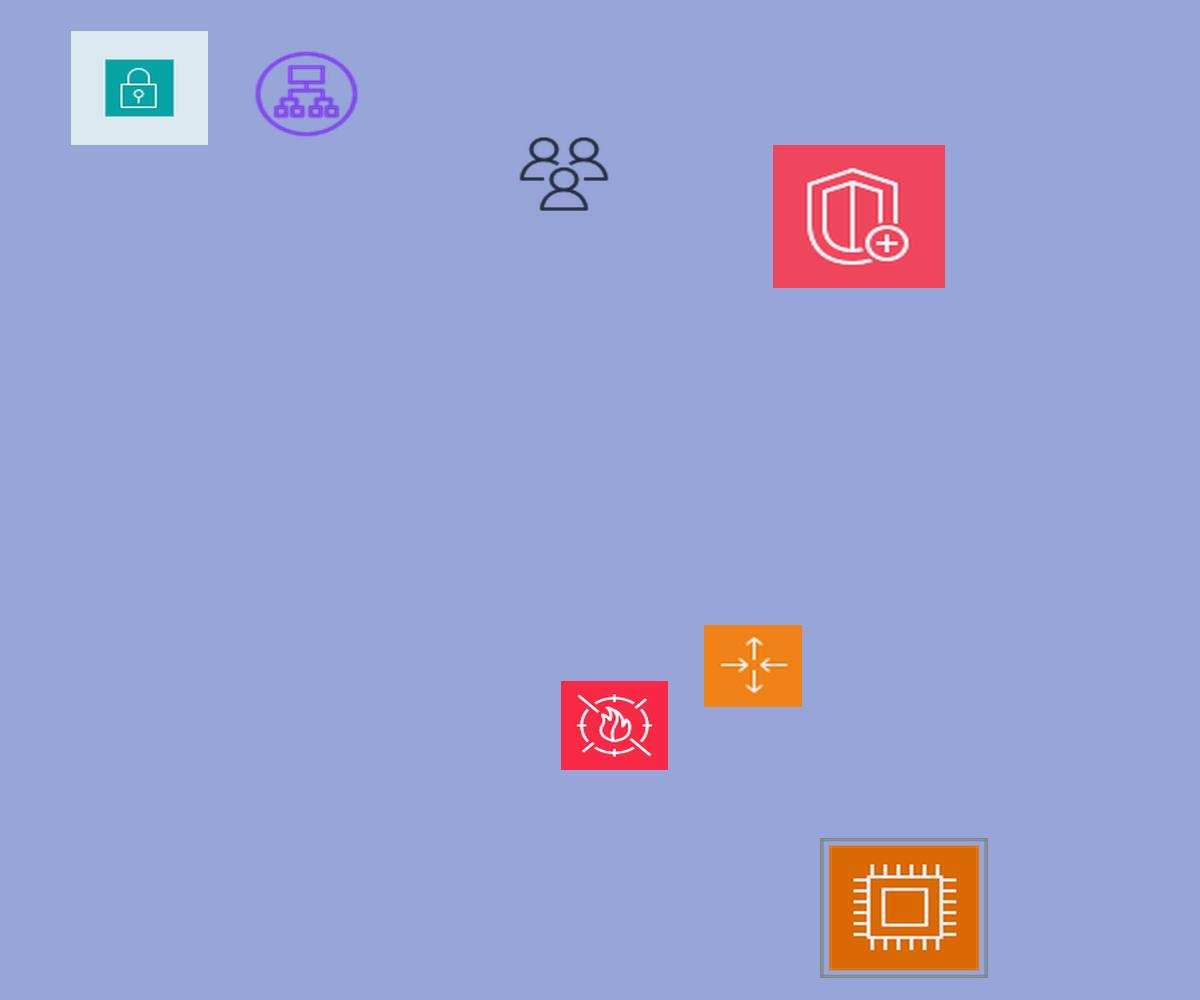AWS-Category_Compute: (820, 838, 988, 978)
AWS-Private-subnet: (71, 31, 208, 145)
AWS-Res_Elastic-Load-Balancing_Application-Load-Balancer: (251, 48, 362, 140)
AWS-Res_Users: (516, 134, 612, 214)
AWS-Scaling-group: (704, 625, 802, 707)
AWS-Shield: (773, 145, 945, 288)
AWS-WAF: (561, 681, 668, 770)
